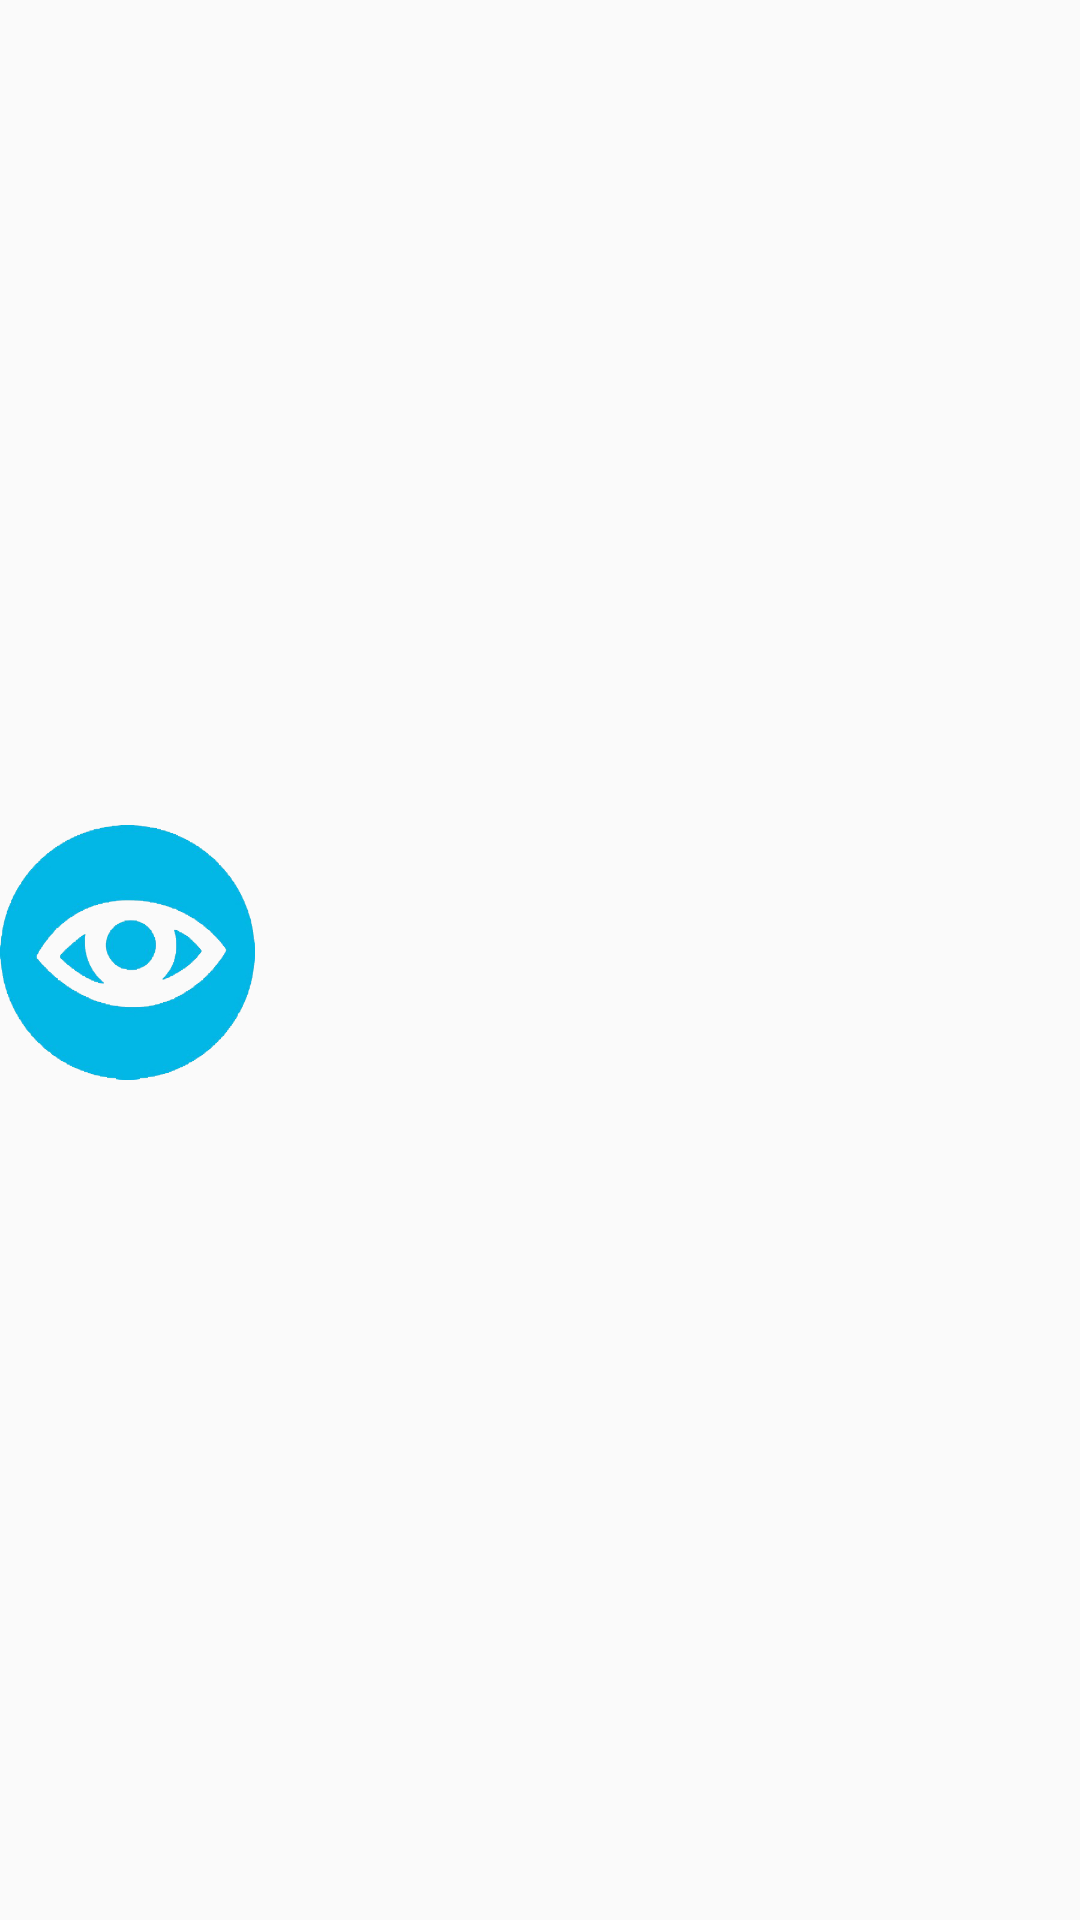

Where to tap for icons on this 1080×1920 app screen, as (x=x, y=y):
view: (x=127, y=952)
